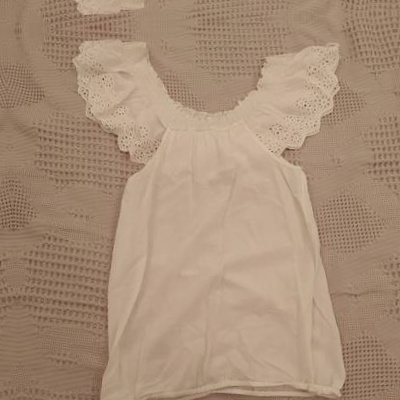Dress: (56, 32, 374, 400), (37, 0, 355, 12)
